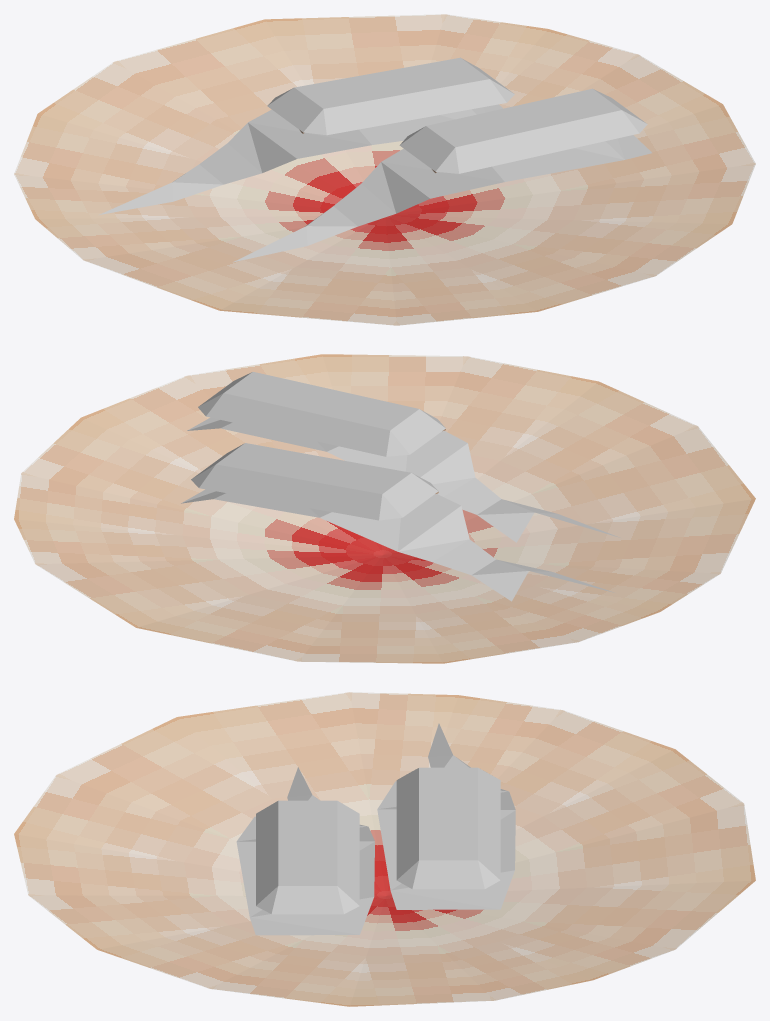
Rendered from sushi_e.obj.
The picture shows the model from 3 angles, top to bottom: view 1: azimuth 30°, elevation 25°; view 2: azimuth 150°, elevation 25°; view 3: azimuth 270°, elevation 25°; orthographic projection.
Visible parts, largest first — view 1: plate_Cone, ebi_Cube002, ebi001_Cube006; view 2: plate_Cone, ebi001_Cube006, ebi_Cube002; view 3: plate_Cone, ebi001_Cube006, ebi_Cube002.
Boxes of the visible parts, <box> form: plate_Cone: <box>14,14,755,325</box>; ebi_Cube002: <box>233,88,651,262</box>; ebi001_Cube006: <box>98,57,514,215</box>; plate_Cone: <box>14,354,755,663</box>; ebi001_Cube006: <box>181,443,614,601</box>; ebi_Cube002: <box>187,372,620,542</box>; plate_Cone: <box>14,692,755,1006</box>; ebi001_Cube006: <box>377,723,515,909</box>; ebi_Cube002: <box>236,767,374,935</box>.
Size of the model in its own units: 0.991 by 0.2045 by 0.9875.
